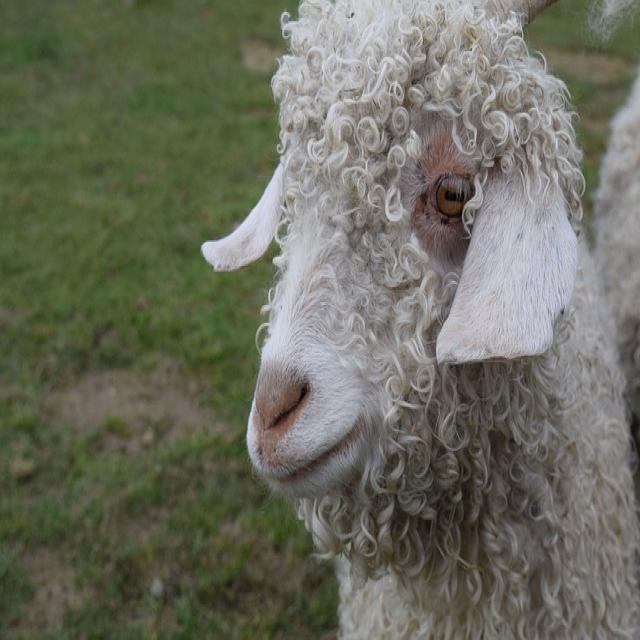goat: (200, 0, 640, 640)
